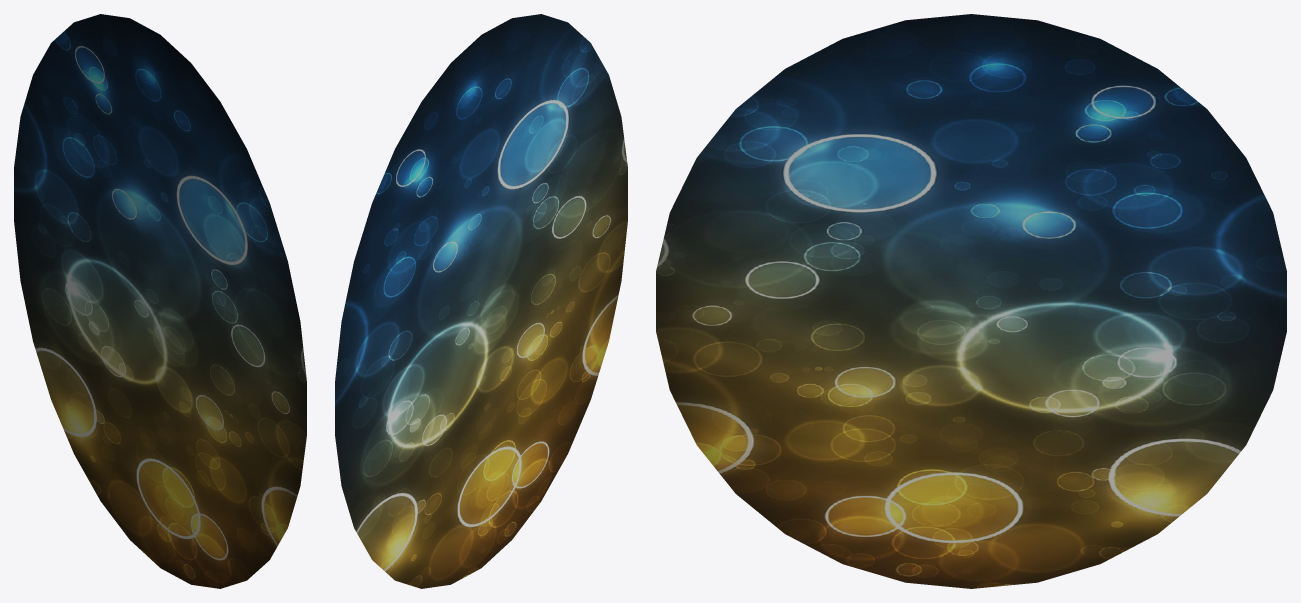
File: PortalDisc.fbx
3 views of the same model, side by side, from view 1: azimuth 30°, elevation 25°; view 2: azimuth 150°, elevation 25°; view 3: azimuth 270°, elevation 25° (orthographic). The views are drawn at different scales.
Parts seen in each view (by area): view 1: Disc; view 2: Disc; view 3: Disc.
Boxes of the visible parts, bbox=[...] form: Disc: bbox=[14, 14, 306, 588]; Disc: bbox=[335, 14, 627, 588]; Disc: bbox=[656, 14, 1286, 588].
Bounding box in the file's own units: 0 × 200 × 199.
1 material, 1 textured.
